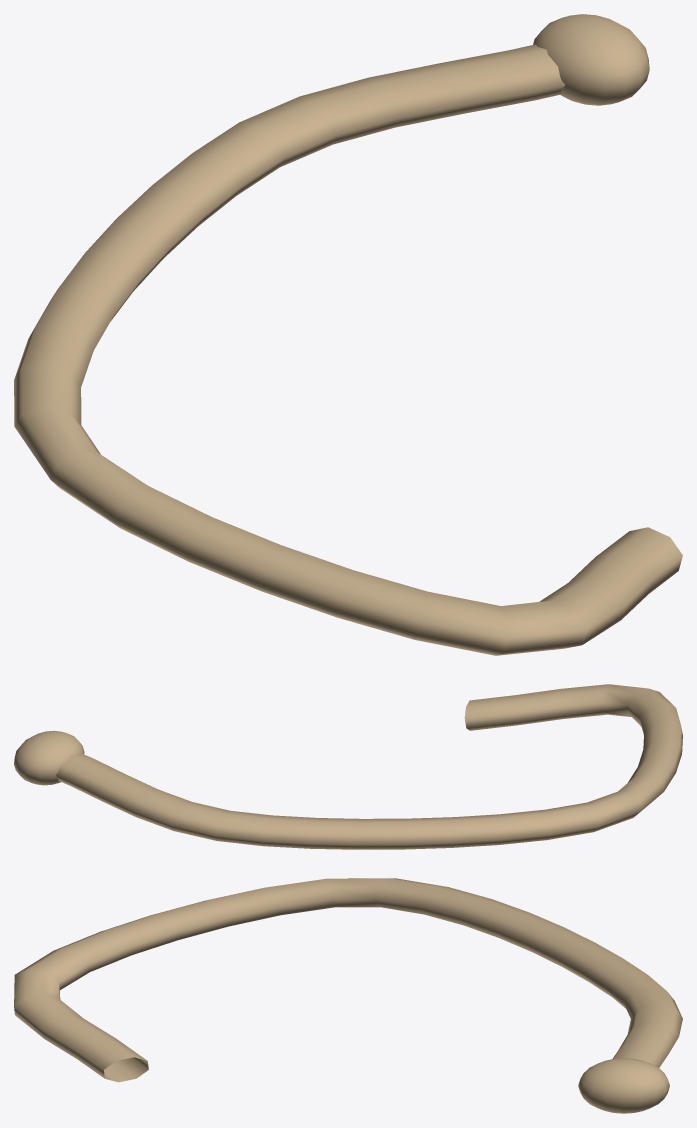
File: right_rib_11.glb
3 views of the same model, one above another, from view 1: azimuth 30°, elevation 25°; view 2: azimuth 150°, elevation 25°; view 3: azimuth 270°, elevation 25° (orthographic). The views are drawn at different scales.
Parts seen in each view (by area): view 1: right_rib_11:costal-body, right_rib_11:head; view 2: right_rib_11:costal-body, right_rib_11:head; view 3: right_rib_11:costal-body, right_rib_11:head.
Boxes of the visible parts, box(x1,y1,x2,y2) form: right_rib_11:costal-body: box(14, 44, 682, 655); right_rib_11:head: box(533, 14, 649, 105); right_rib_11:costal-body: box(56, 684, 682, 849); right_rib_11:head: box(14, 730, 84, 785); right_rib_11:costal-body: box(14, 878, 682, 1082); right_rib_11:head: box(578, 1058, 669, 1113).
Bounding box in the file's own units: 0.7872 × 0.1728 × 0.864.
